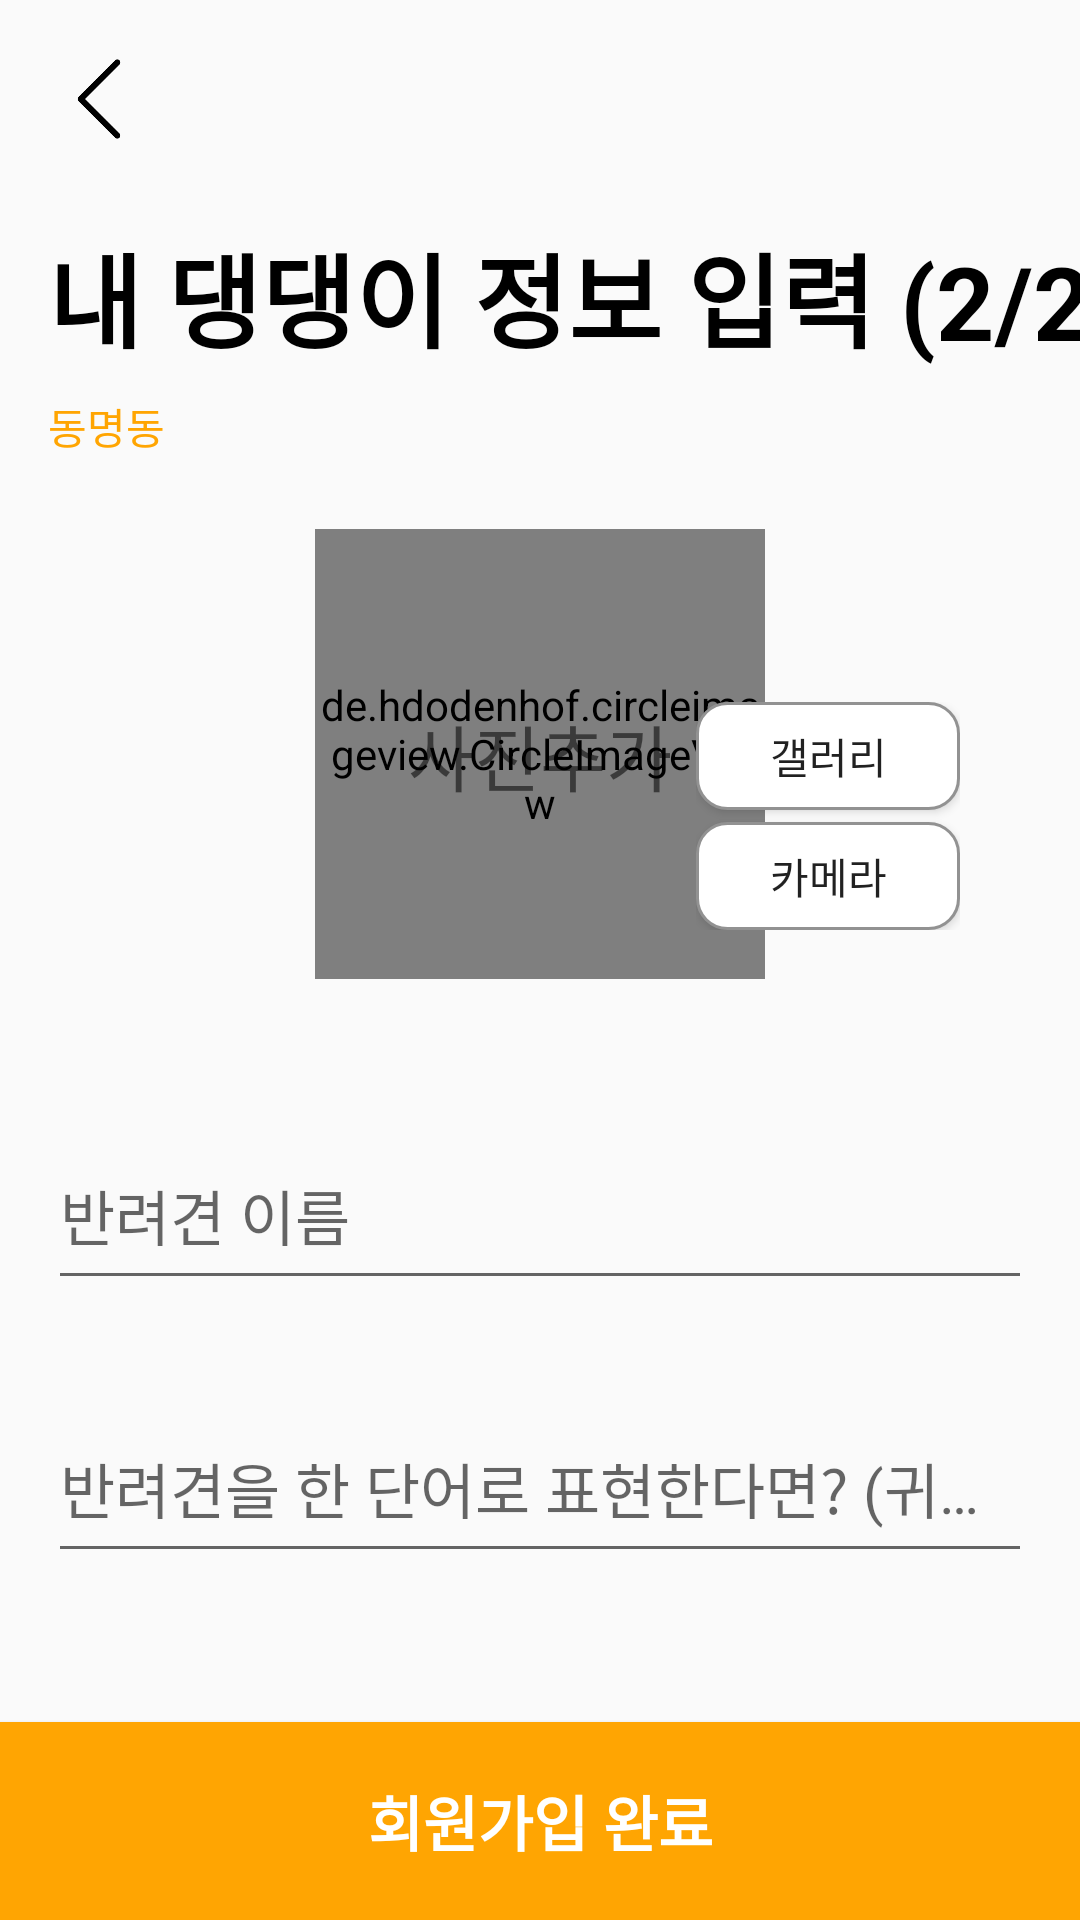

Icons on this 1080 × 1920 Android screen, each with its box as (x1, y1, x2, y2):
back: (78, 59, 121, 139)
